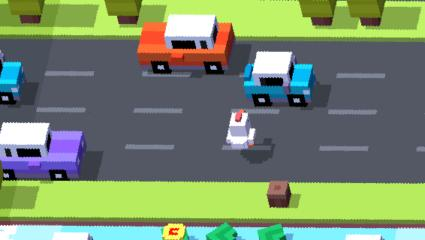hen: (225, 110, 255, 153)
obstacle: (139, 16, 236, 75), (1, 122, 88, 178), (245, 52, 317, 108), (0, 53, 25, 106), (349, 0, 385, 25), (268, 181, 293, 207), (8, 0, 42, 18), (301, 0, 337, 17), (108, 0, 142, 17), (360, 17, 382, 26), (310, 17, 334, 25), (19, 15, 42, 23), (117, 16, 138, 24)
timber: (206, 223, 238, 240), (257, 224, 285, 240)
